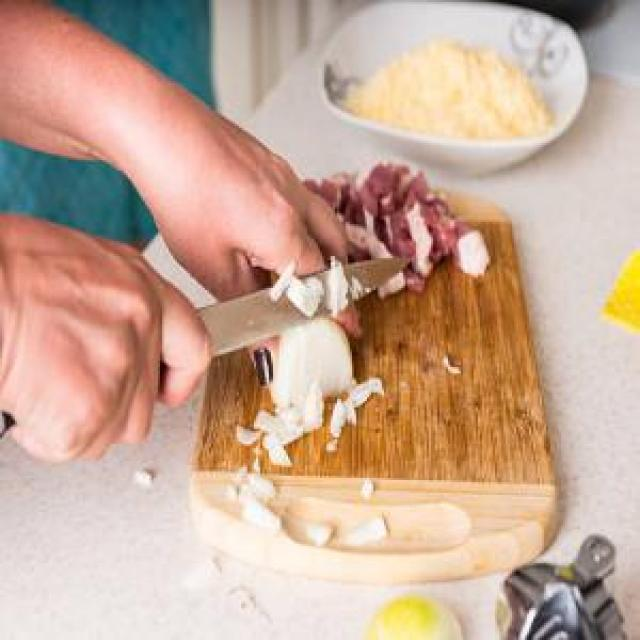knife: (0, 245, 418, 434)
